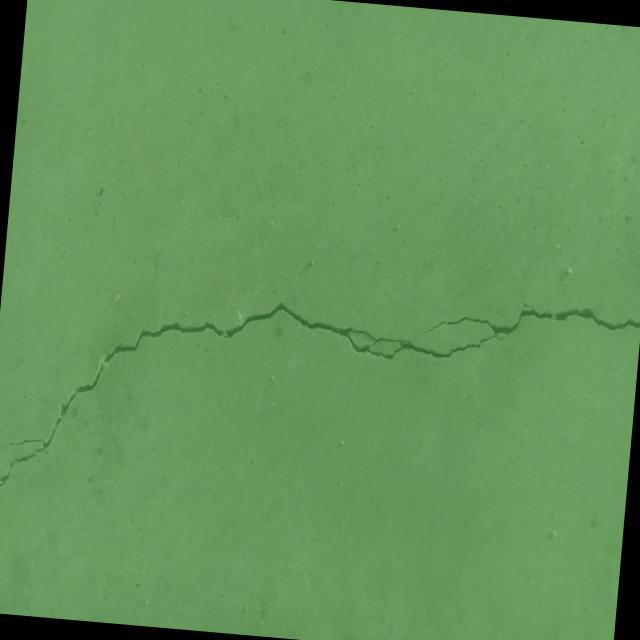crack: (0, 254, 640, 556), (0, 426, 13, 435)
